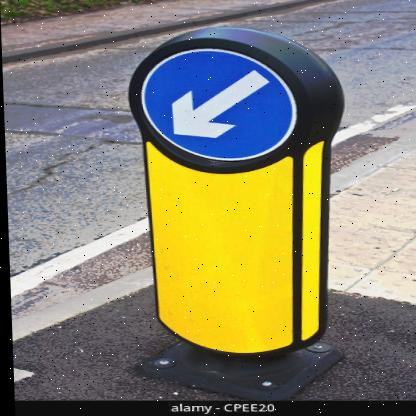Keep left: (128, 35, 315, 164)
